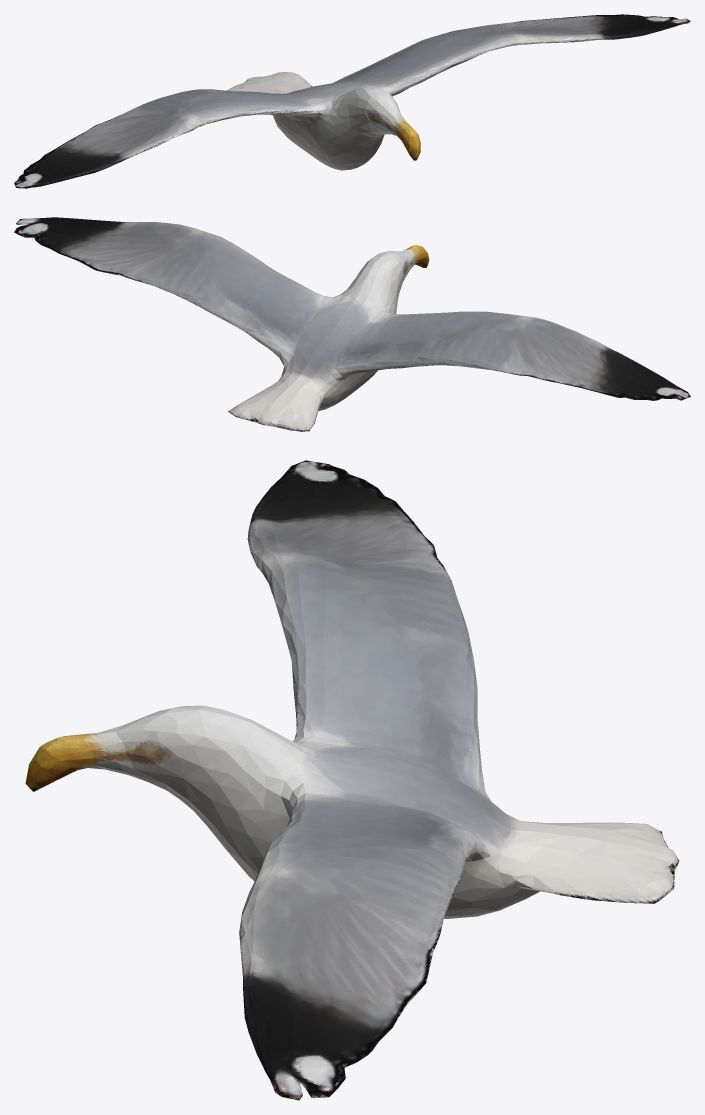
The model's file is gull.glb.
3 renders of one model, top to bottom at view 1: azimuth 30°, elevation 25°; view 2: azimuth 150°, elevation 25°; view 3: azimuth 270°, elevation 25°, orthographic. The views are drawn at different scales.
Parts seen in each view (by area): view 1: geometry_0; view 2: geometry_0; view 3: geometry_0.
Part boxes in pixels (x1,y1,x2,y2): geometry_0: (14, 14, 690, 188); geometry_0: (14, 217, 690, 431); geometry_0: (25, 460, 679, 1100).
Bounding box in the file's own units: 0.9934 × 0.1465 × 0.4206.
Materials: 1 (1 with a texture image).
